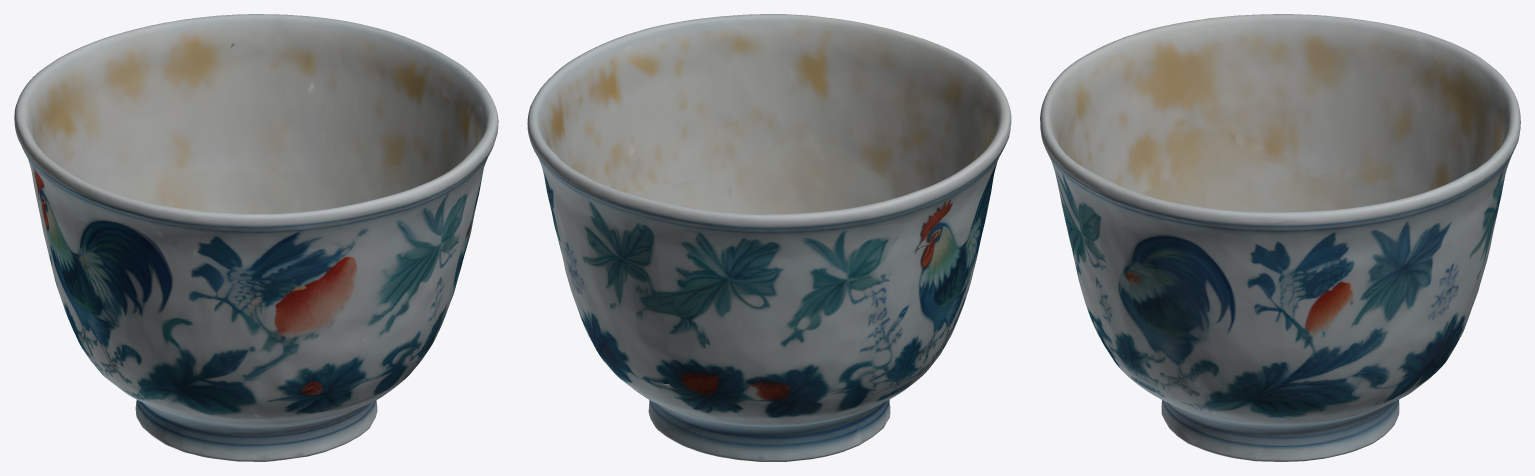
The model's file is romantex_16.glb.
3 views of the same model, side by side, from view 1: azimuth 30°, elevation 25°; view 2: azimuth 150°, elevation 25°; view 3: azimuth 270°, elevation 25° (orthographic).
Visible parts, largest first — view 1: texture_v130_hdr_21w_pbr_dino_11w.001; view 2: texture_v130_hdr_21w_pbr_dino_11w.001; view 3: texture_v130_hdr_21w_pbr_dino_11w.001.
Part boxes in pixels (left/top/right/bottom): texture_v130_hdr_21w_pbr_dino_11w.001: left=14, top=14, right=498, bottom=461; texture_v130_hdr_21w_pbr_dino_11w.001: left=527, top=14, right=1011, bottom=461; texture_v130_hdr_21w_pbr_dino_11w.001: left=1040, top=14, right=1520, bottom=461.
Bounding box in the file's own units: 2 × 1.38 × 2.
Materials: 1 (1 with a texture image).
